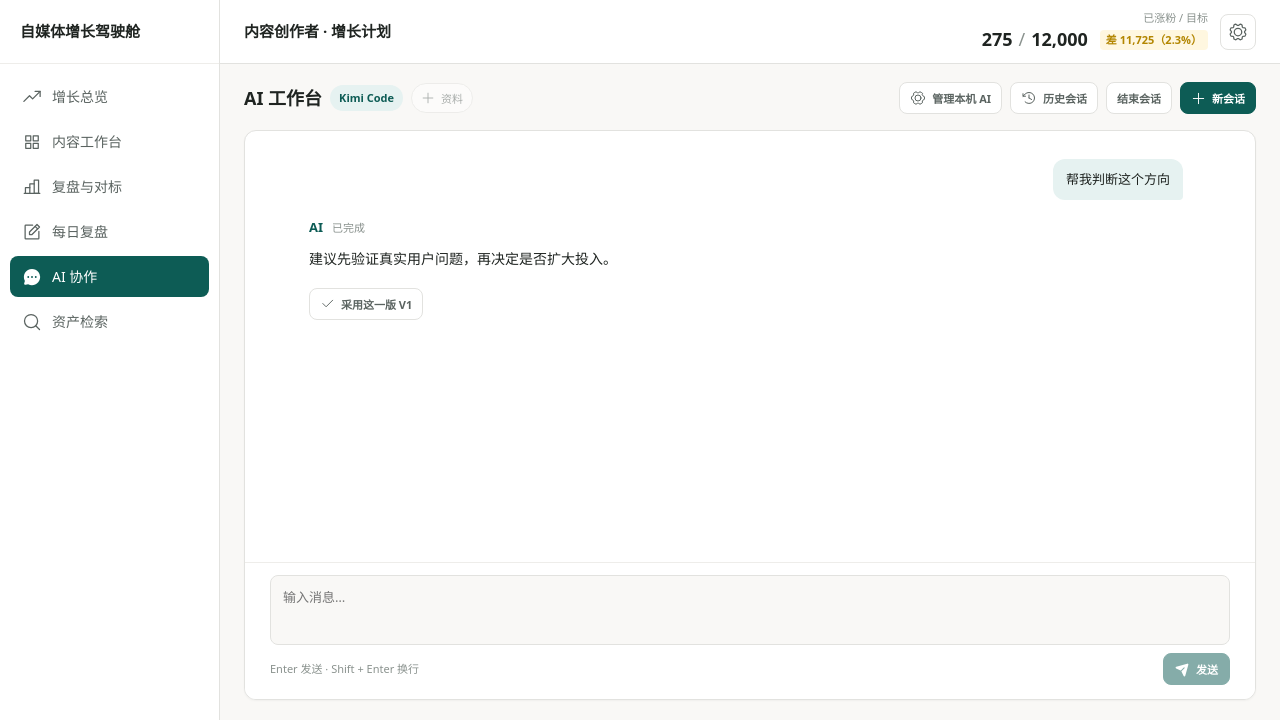
it: AI conversation workbench › restores a conversation on refresh, exposes history, and closes only after confirmation
expect the text "建议先验证真实用户问题，再决定是否扩大投入。" is shown: met, box top-left (309, 249), bottom-right (617, 268)
What coordinates should you click on to do the following:
click the button "历史会话"
I would click on:
 (1054, 98)
Its box is top-left (1010, 82), bottom-right (1098, 114).
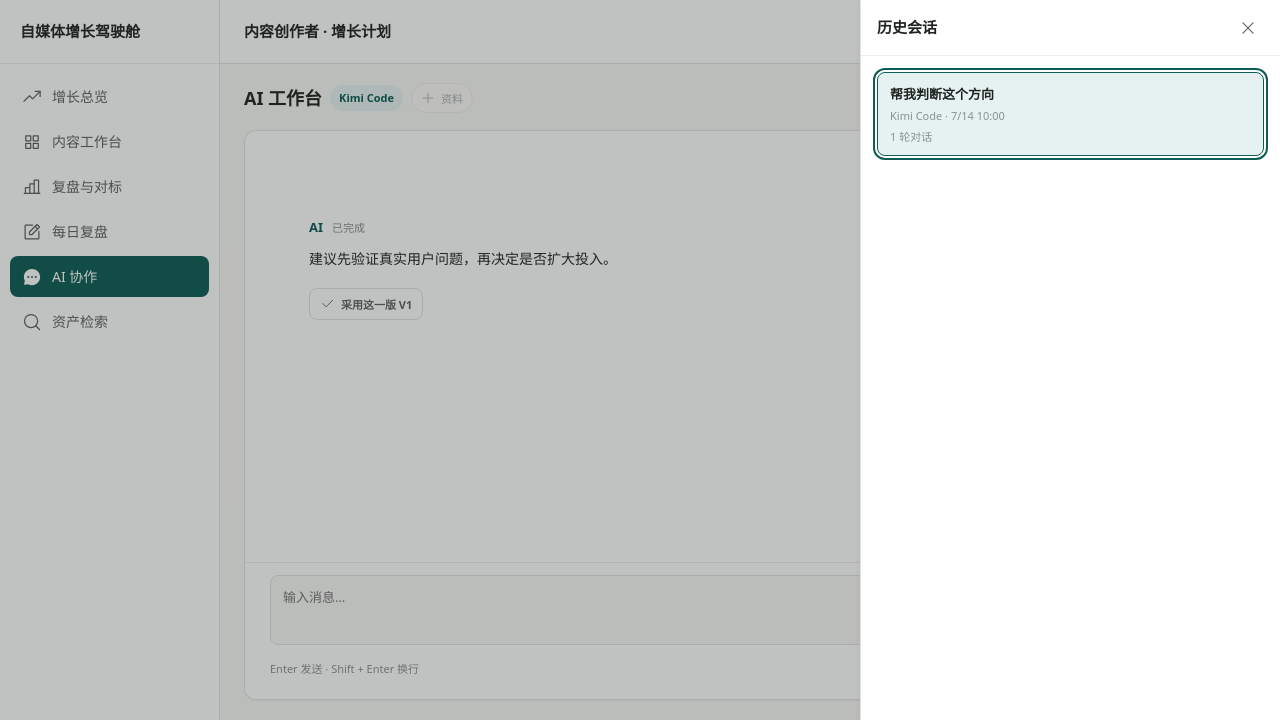
expect the text "帮我判断这个方向" is shown: met, box top-left (890, 84), bottom-right (994, 103)
What coordinates should you click on to do the following:
click the button named "关闭详情"
I would click on:
 (1248, 28)
Its box is top-left (1232, 12), bottom-right (1264, 44).
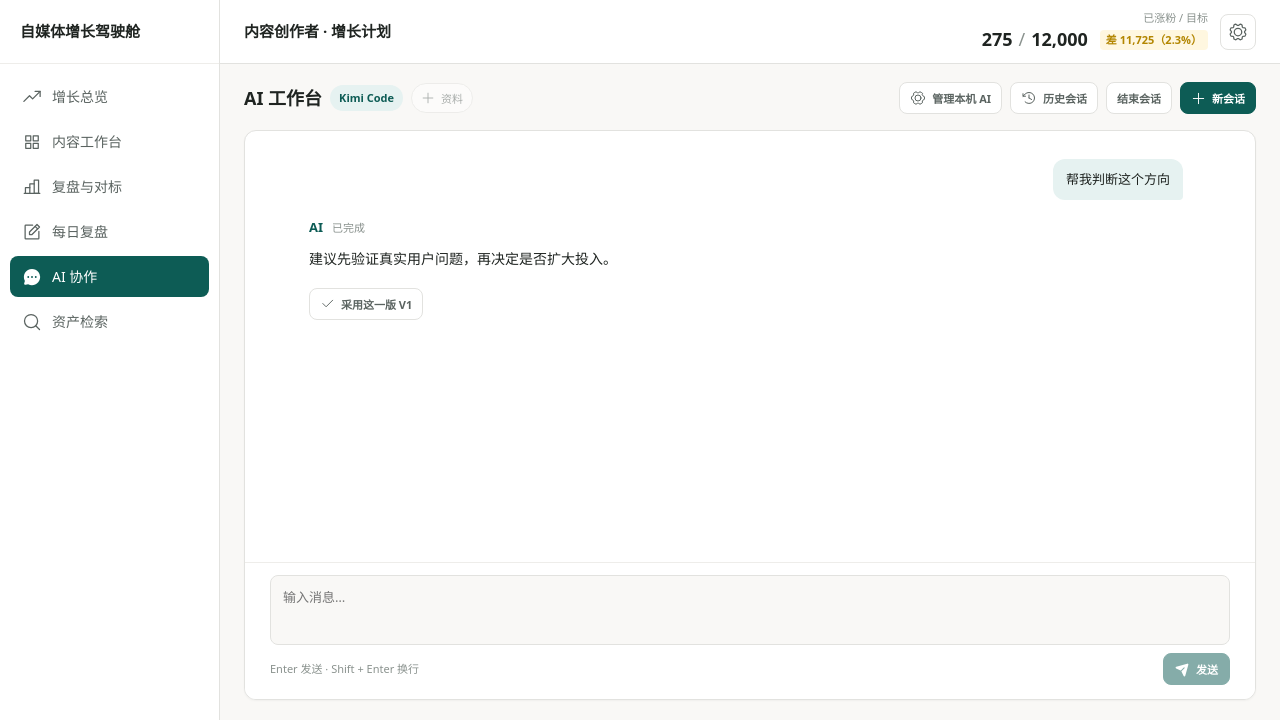
What coordinates should you click on to do the following:
click the button "结束会话"
I would click on:
 (1139, 98)
Its box is top-left (1106, 82), bottom-right (1172, 114).
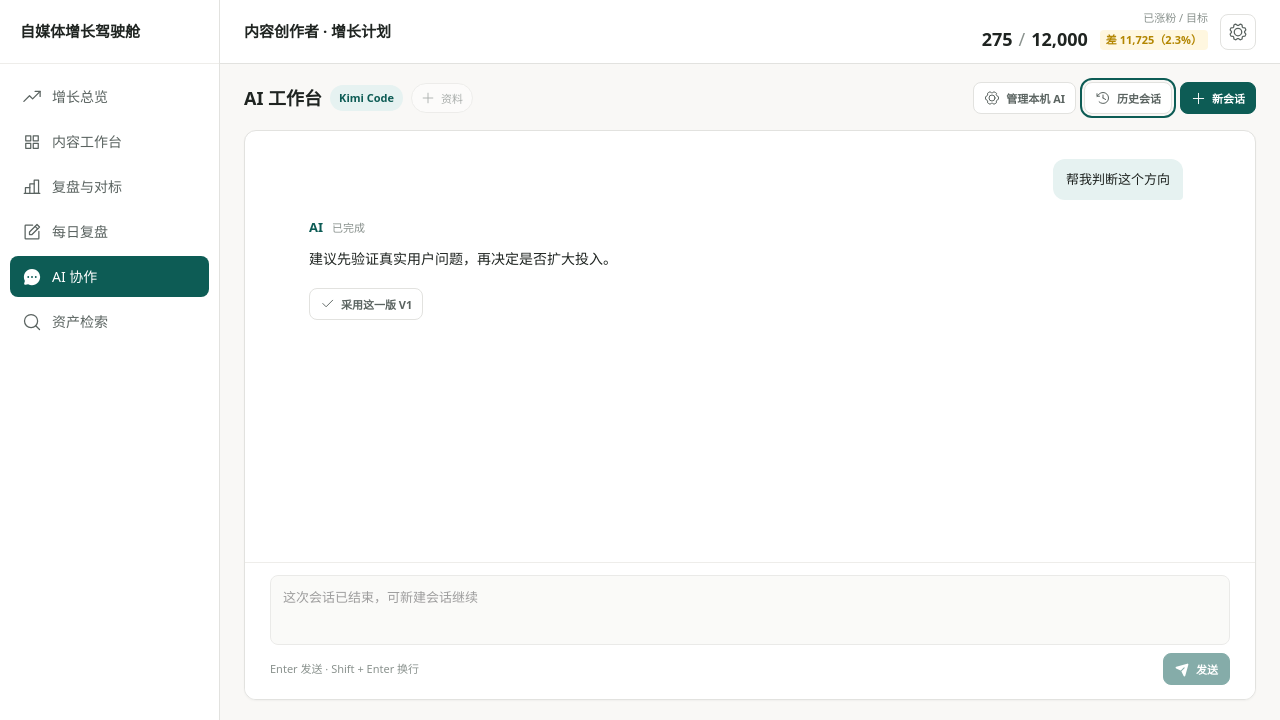
expect the text box named "继续提问" is disabled: met, box top-left (270, 575), bottom-right (1230, 645)
